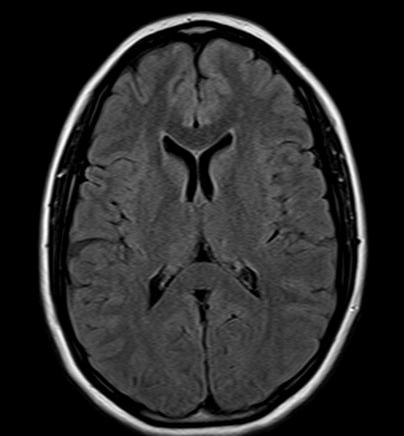Normal_Brain: (1, 1, 404, 436)
